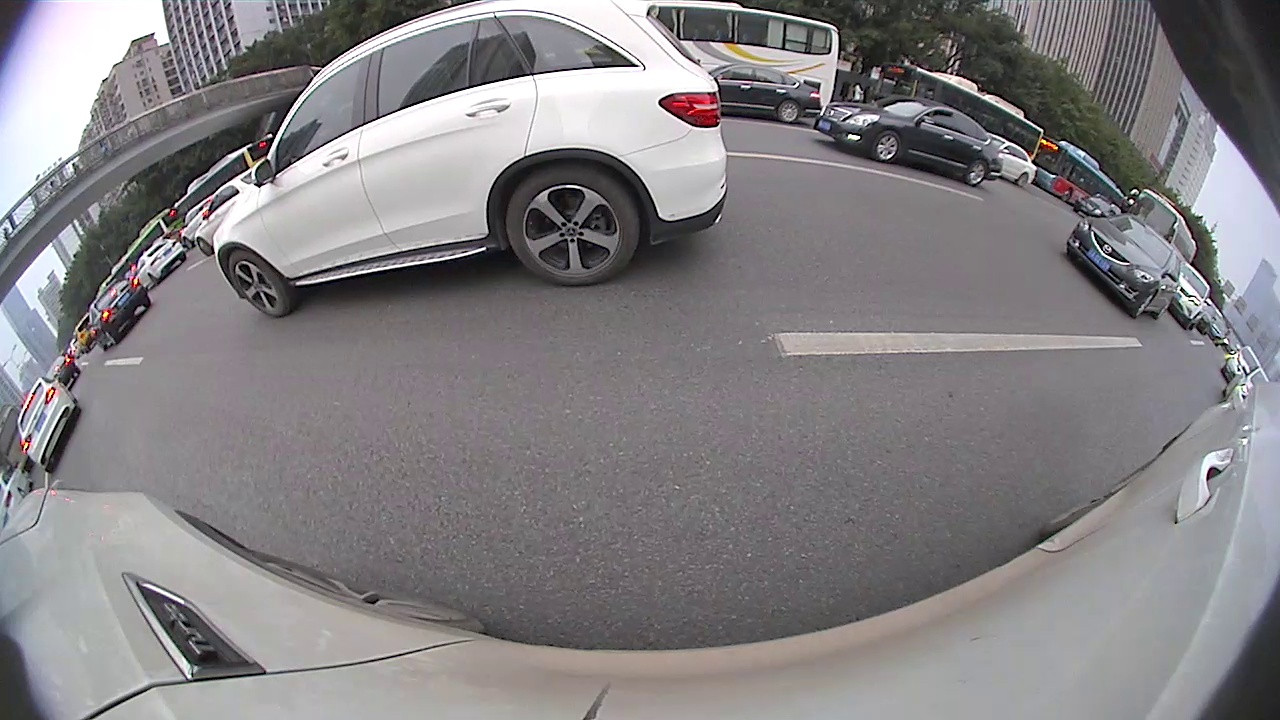bus: (644, 1, 842, 105), (872, 63, 1042, 161), (1035, 134, 1127, 222)
car: (212, 2, 732, 314), (815, 95, 1007, 188), (1064, 212, 1189, 319), (706, 59, 816, 125), (14, 374, 84, 474), (85, 278, 153, 350), (976, 127, 1040, 189), (130, 240, 191, 289), (1170, 258, 1210, 329)
front: (226, 253, 287, 318), (875, 133, 899, 163)
rear: (510, 167, 640, 283), (965, 159, 988, 185), (779, 101, 800, 123), (1018, 172, 1028, 189)
